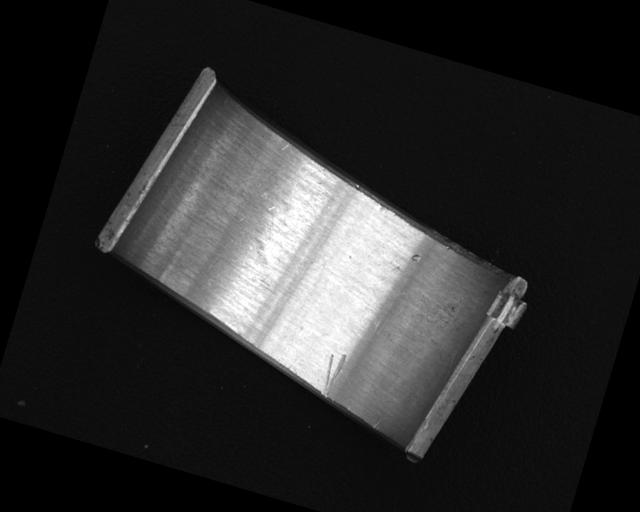bruise: (409, 250, 423, 264)
nick: (315, 349, 349, 400), (371, 416, 384, 431)
